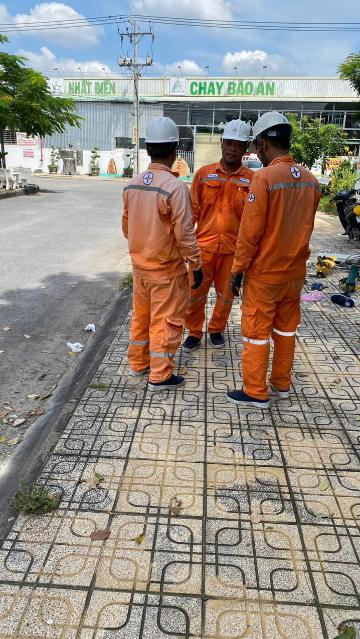gloves: (224, 268, 256, 296), (190, 260, 207, 290)
helmet: (127, 109, 197, 153), (253, 103, 293, 150), (216, 114, 258, 147)
shoes: (223, 382, 271, 408), (176, 325, 208, 354), (144, 374, 185, 392), (128, 361, 152, 380), (203, 329, 223, 347)
